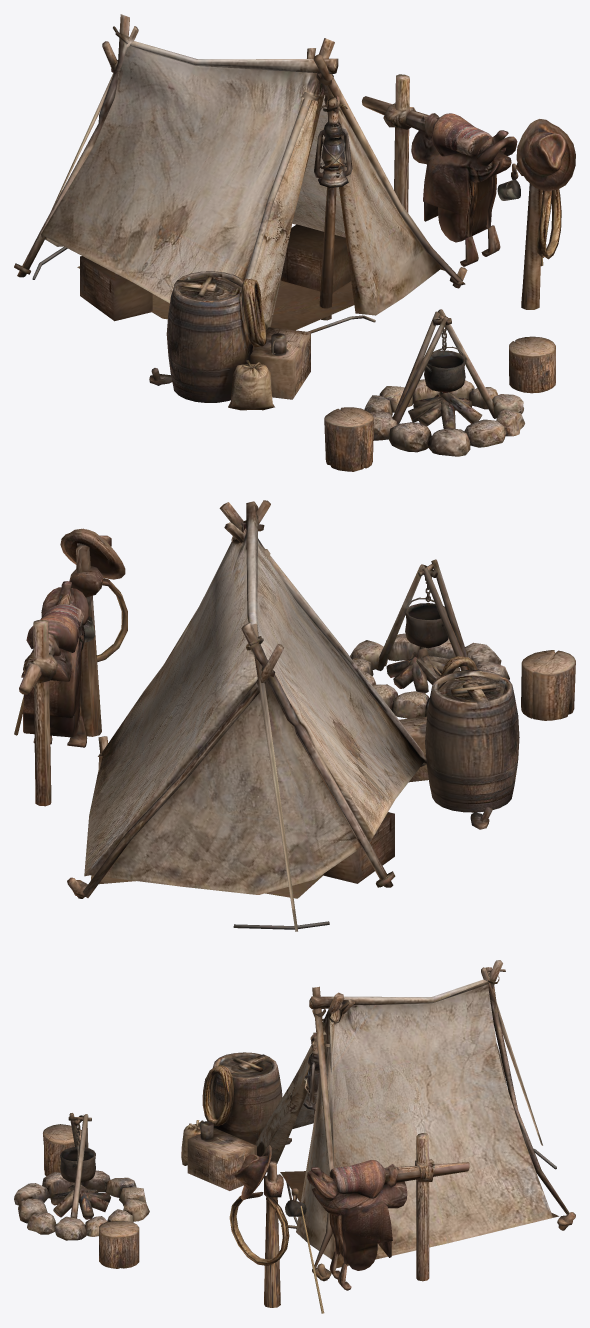
File: camp1.glb
3 views of the same model, one above another, from view 1: azimuth 30°, elevation 25°; view 2: azimuth 150°, elevation 25°; view 3: azimuth 270°, elevation 25° (orthographic). The views are drawn at different scales.
Visible parts, largest first — view 1: tripo_part_0; view 2: tripo_part_0; view 3: tripo_part_0.
Part boxes in pixels (<box>): tripo_part_0: <box>14,14,575,471</box>; tripo_part_0: <box>14,500,575,931</box>; tripo_part_0: <box>14,960,575,1313</box>.
Size of the model in its own units: 4.5 by 2.76 by 5.8.
Materials: 1 (1 with a texture image).
